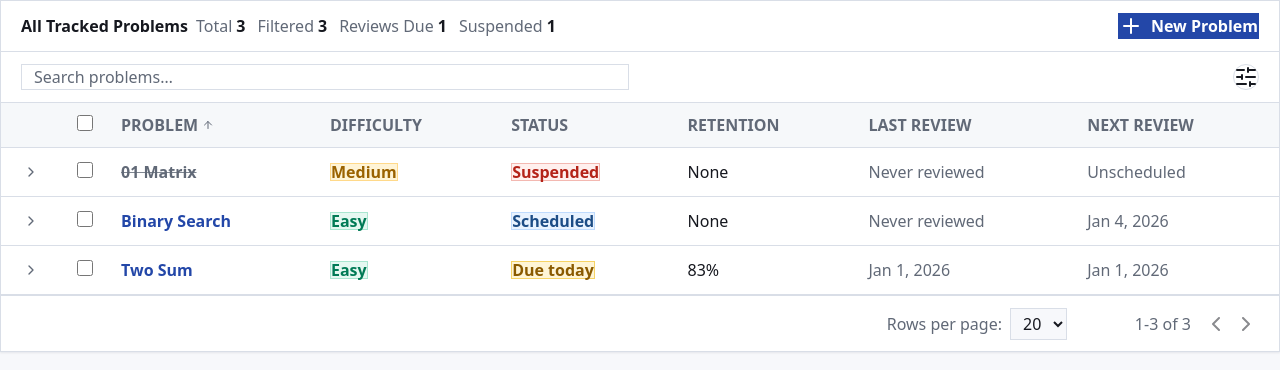
Test case: ProblemLibraryScreen › renders the MVP table columns and row selection controls
Expected: the column heading "Problem" is shown, [109,103,318,148]
Expected: the column heading "Difficulty" is shown, [318,103,499,148]
Click the checkbox named "Select Two Sum". click: [85, 268]
box: [77,260,93,276]
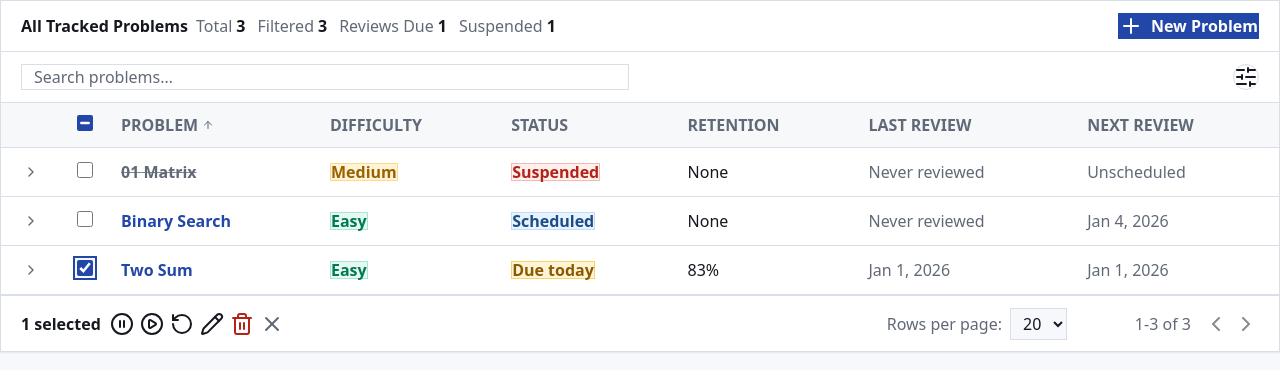
Expected: the checkbox named "Select Two Sum" is checked, [77,260,93,276]
Expected: the text "1 selected" is shown, [21,312,101,336]
Click the checkbox named "Select current page". click: [85, 123]
box: [77,115,93,131]
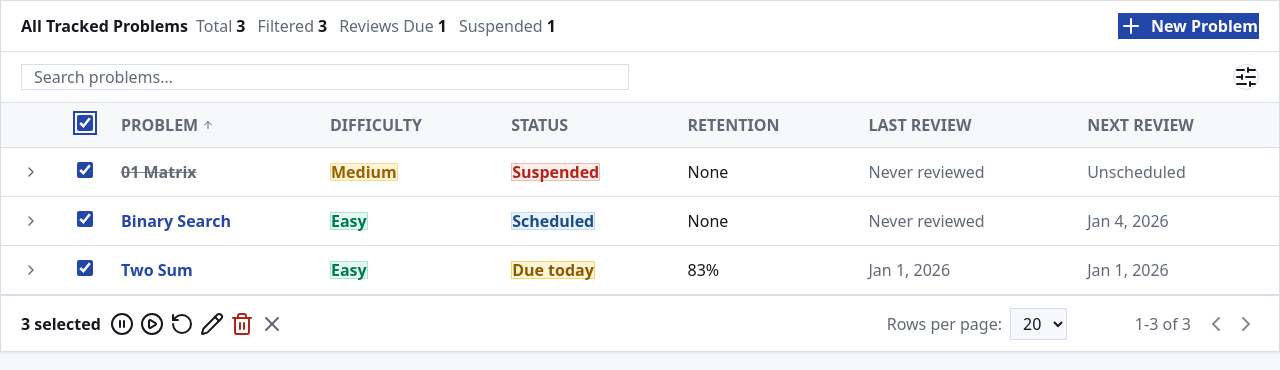
Expected: the checkbox named "Select Binary Search" is checked, [77,211,93,227]
Expected: the text "3 selected" is shown, [21,312,101,336]
Click the button named "Clear selection". click: [272, 324]
box: [259,310,285,336]
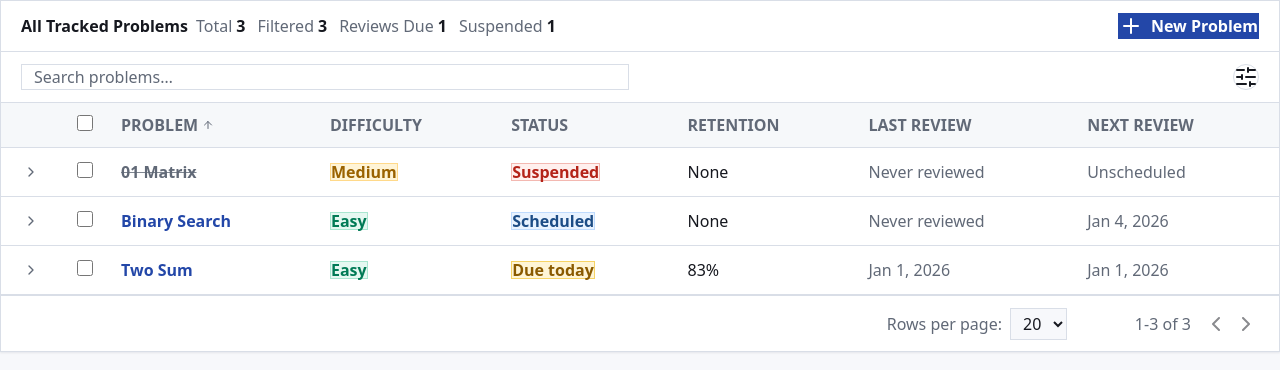
Expected: the text "3 selected" is gone
